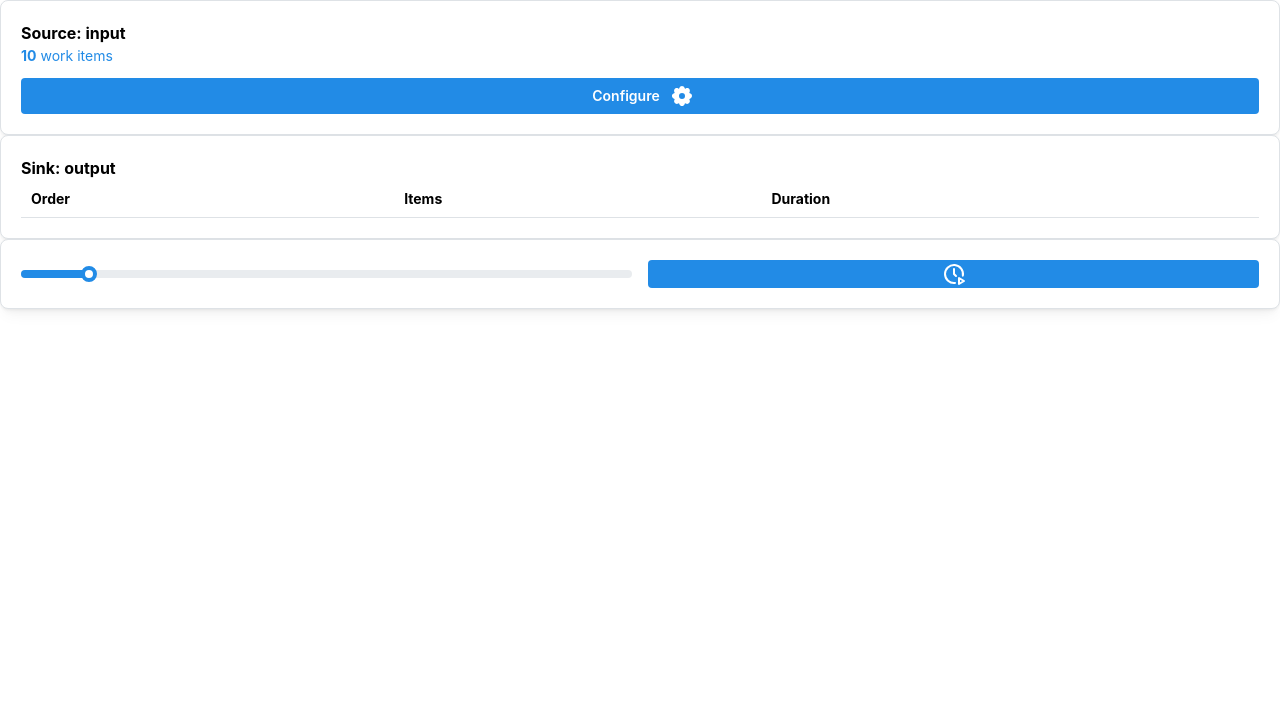
Test: SystemProvider component › integrates a source, sink and clock
Click the button named "Start Clock": (954, 274) [648,260,1259,288]
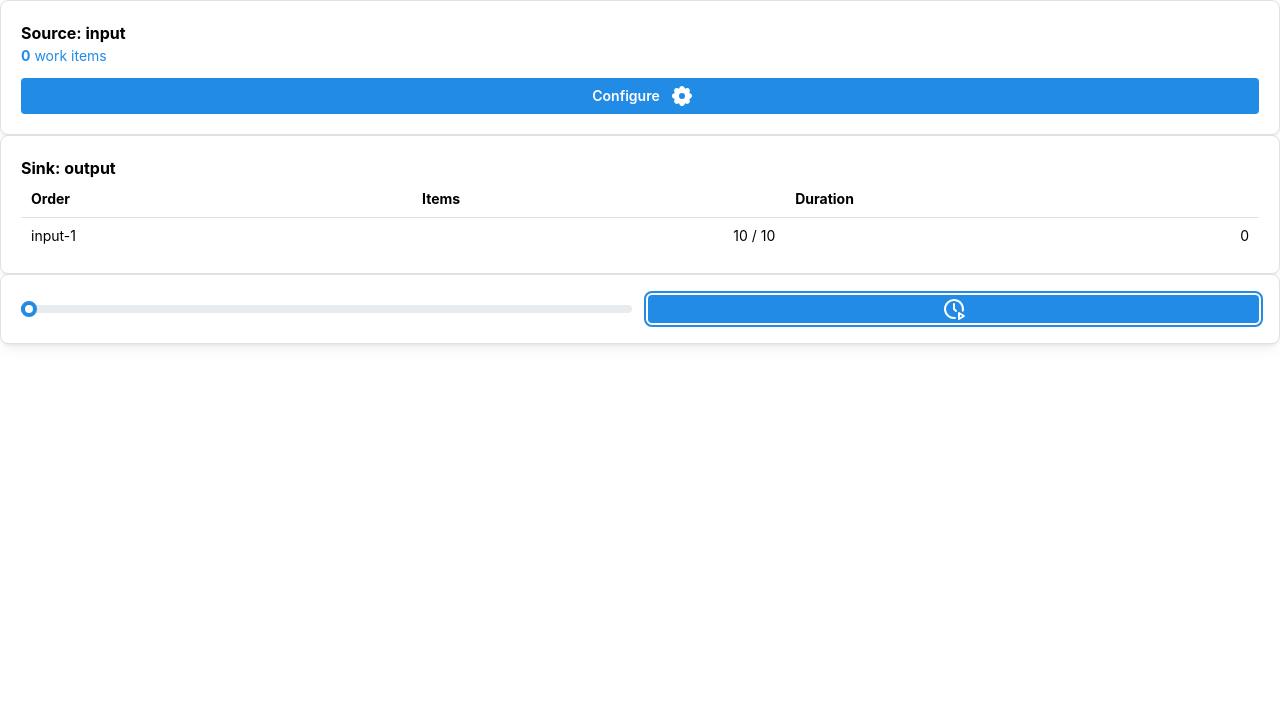
# zero work items should be in the source
Click the button "Configure": (640, 96) [21,78,1259,114]
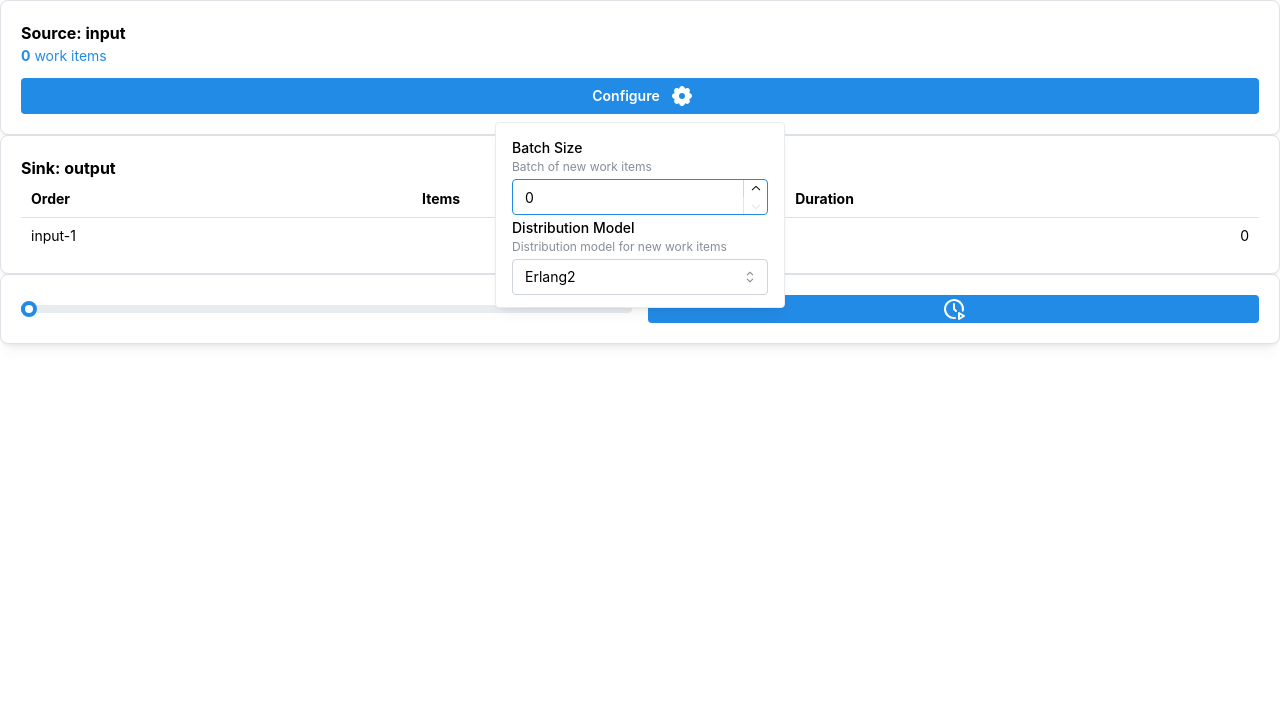
Expected: the text "input-1" is shown, [21,217,412,253]
Expected: the text "Batch Size" is shown, [512,137,582,159]
Expected: the field labelled "Batch Size" holds "0", [512,179,768,215]
